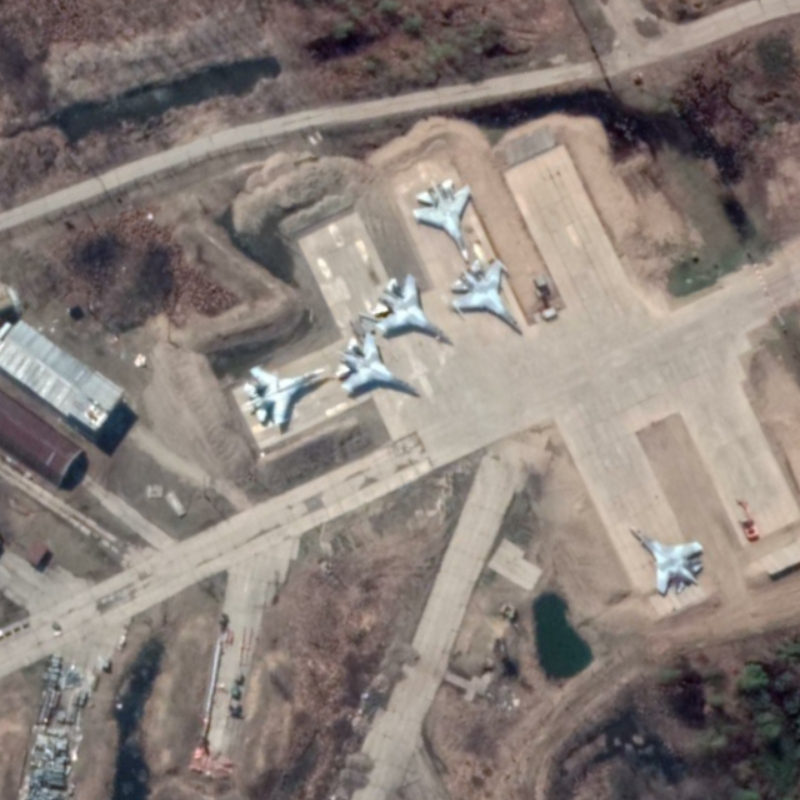A1: (446, 255, 528, 338), (330, 330, 422, 400), (408, 175, 477, 268), (623, 522, 706, 599), (369, 272, 454, 347), (237, 364, 330, 430)
